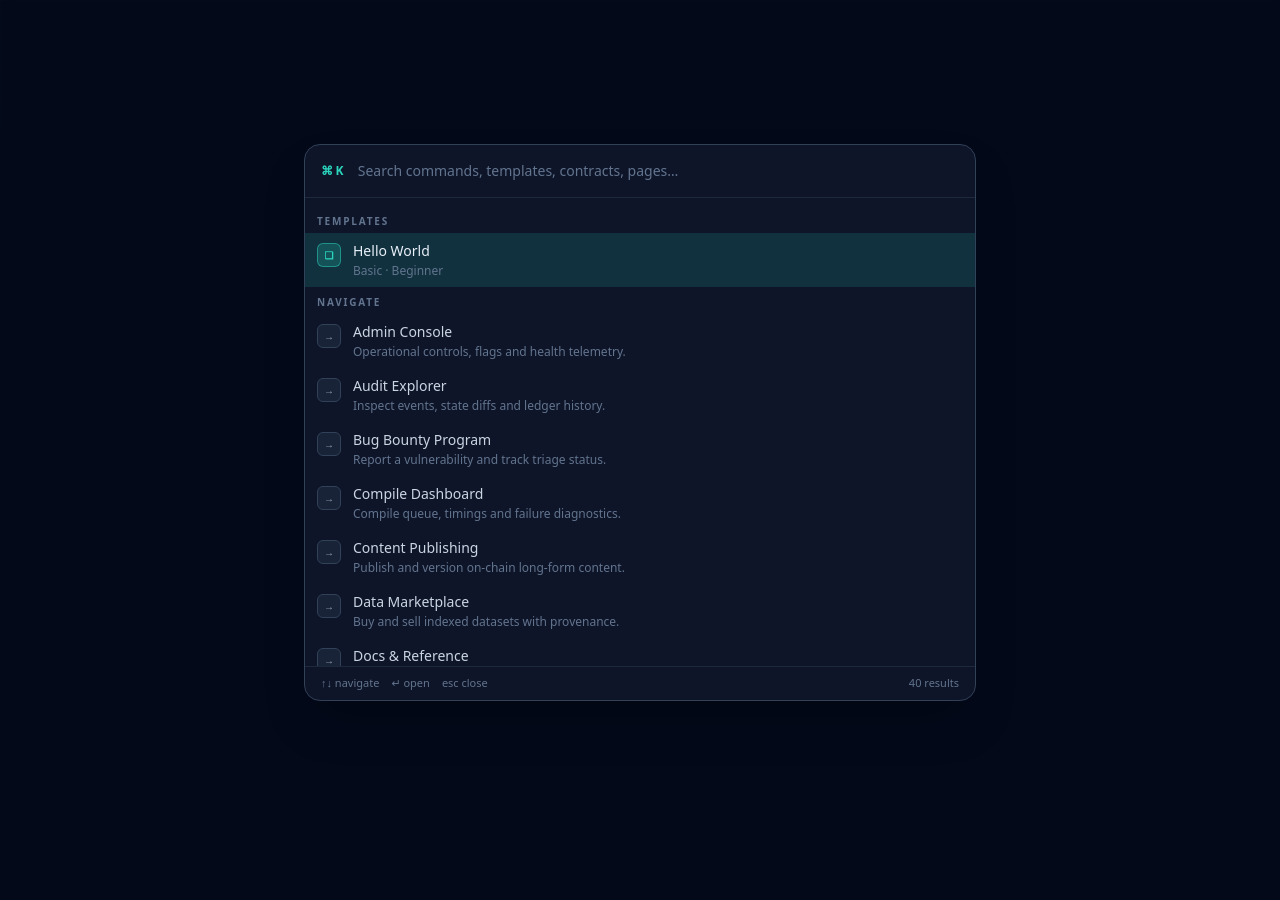
it: CommandPalette › highlights the fuzzy match spans with <mark>
Type "hlo" into the dropdown at (658, 171), box [358,145,959,197]
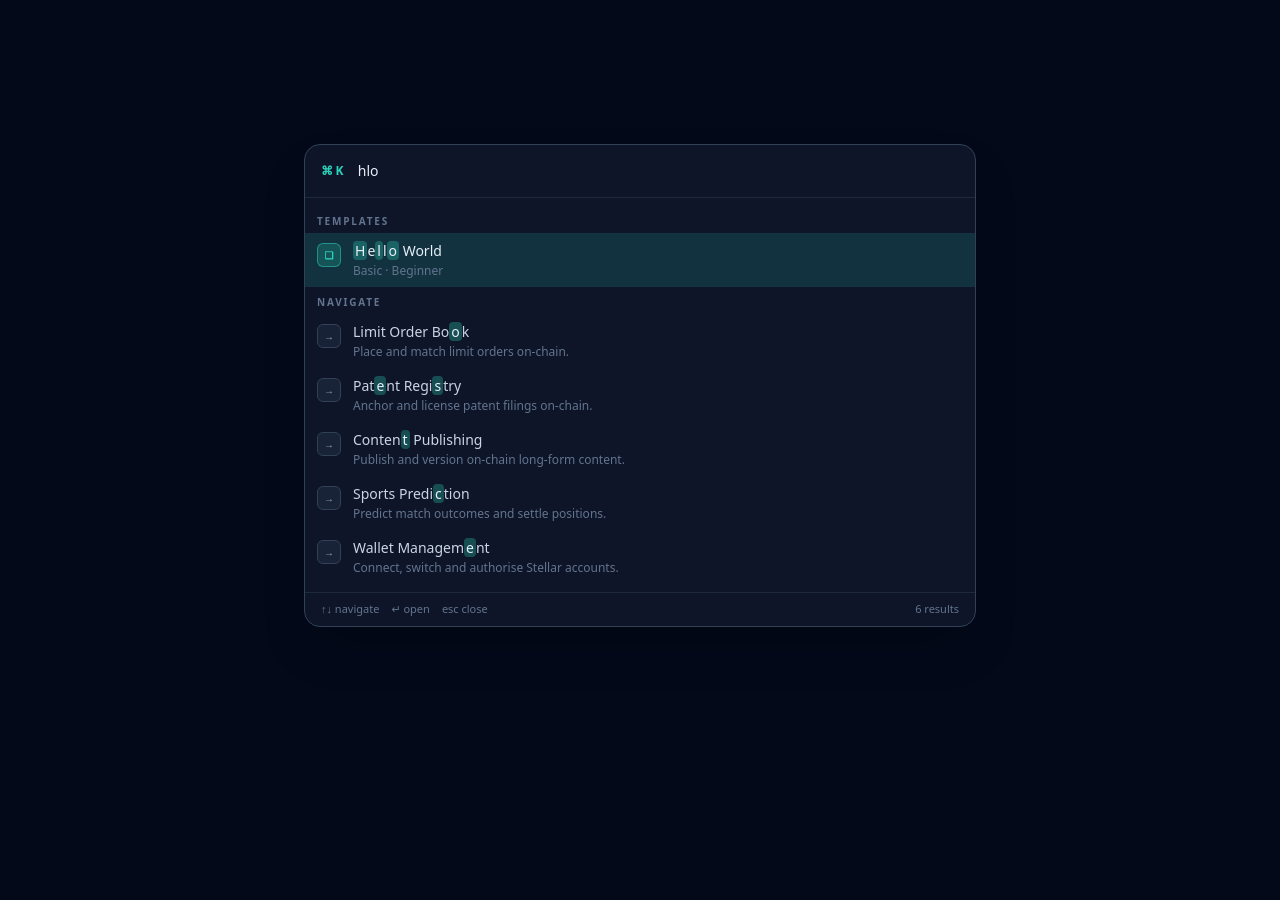
Now the text "H" is shown, box [353,241,367,260]
